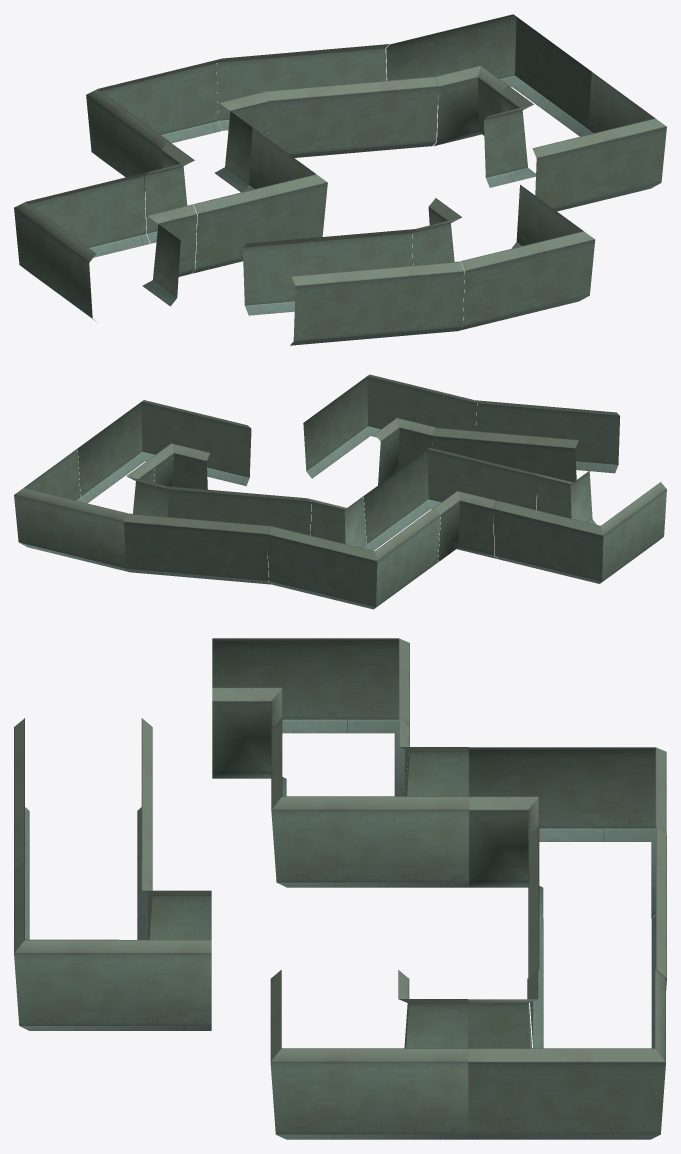
The model's file is Combined_Mesh_root_scene__4_e0ea2853__zombies2_diffuse_09_d56e2e54_c1f257.obj.
The picture shows the model from 3 angles, top to bottom: view 1: azimuth 30°, elevation 25°; view 2: azimuth 150°, elevation 25°; view 3: azimuth 270°, elevation 25°; orthographic projection. The views are drawn at different scales.
Bounding box in the file's own units: 70.92 × 11.05 × 50.89.
8 materials, 8 textured.
